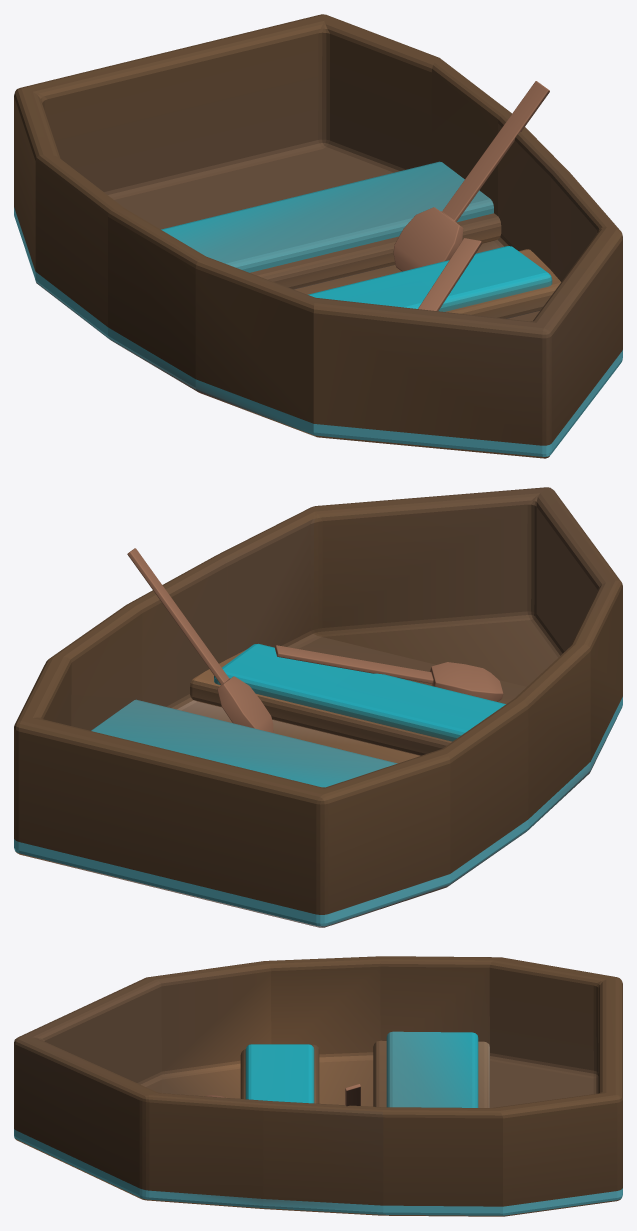
Rendered from Barco.fbx.
3 renders of one model, top to bottom at view 1: azimuth 30°, elevation 25°; view 2: azimuth 150°, elevation 25°; view 3: azimuth 270°, elevation 25°, orthographic. The views are drawn at different scales.
Parts seen in each view (by area): view 1: BARCO; view 2: BARCO; view 3: BARCO.
Boxes of the visible parts, x1,y1,x2,y2 form: BARCO: (14,14,622,458); BARCO: (14,487,622,927); BARCO: (14,956,622,1216).
Size of the model in its own units: 662 by 259 by 1045.
